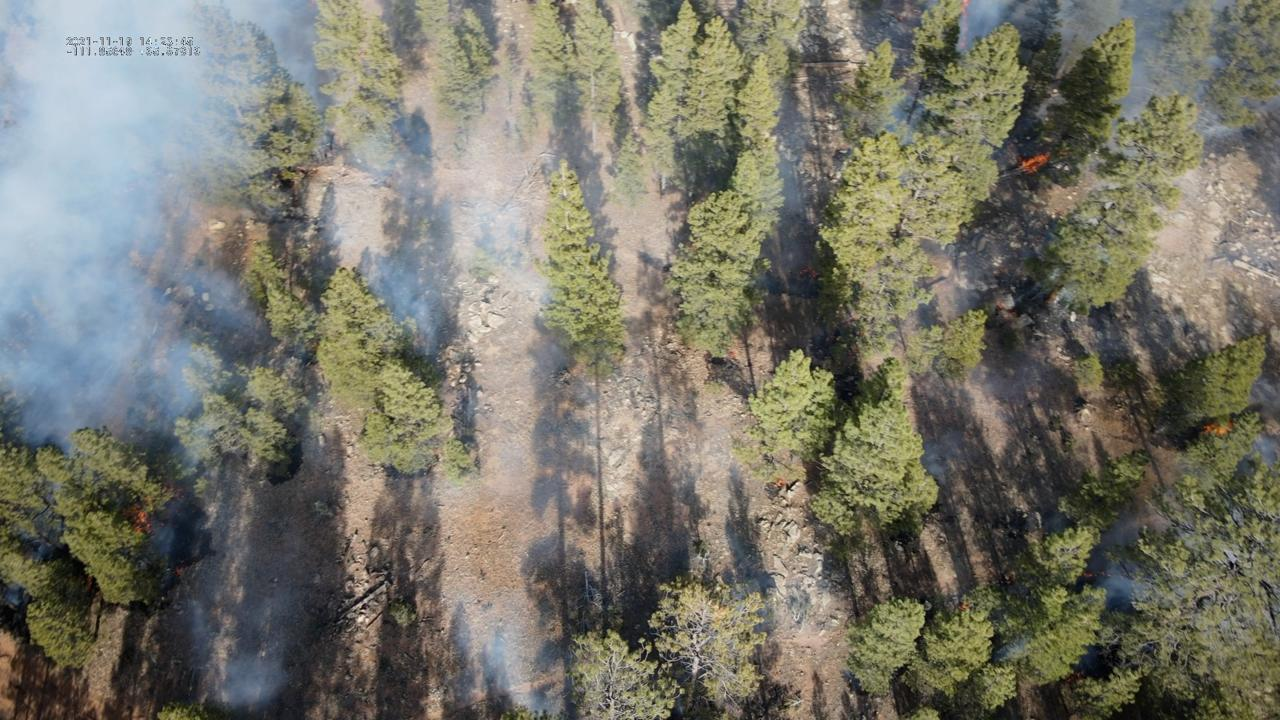fire: (118, 502, 152, 535), (1016, 153, 1049, 176), (1196, 419, 1233, 437), (798, 266, 817, 279), (773, 478, 785, 489), (174, 566, 183, 578), (957, 603, 970, 611), (1081, 572, 1093, 578)
smoke: (0, 0, 566, 613), (883, 0, 1280, 170), (1099, 376, 1279, 619), (440, 588, 563, 720), (753, 96, 831, 299), (183, 594, 295, 712), (916, 427, 964, 486), (1067, 642, 1100, 675), (992, 639, 1031, 665)
